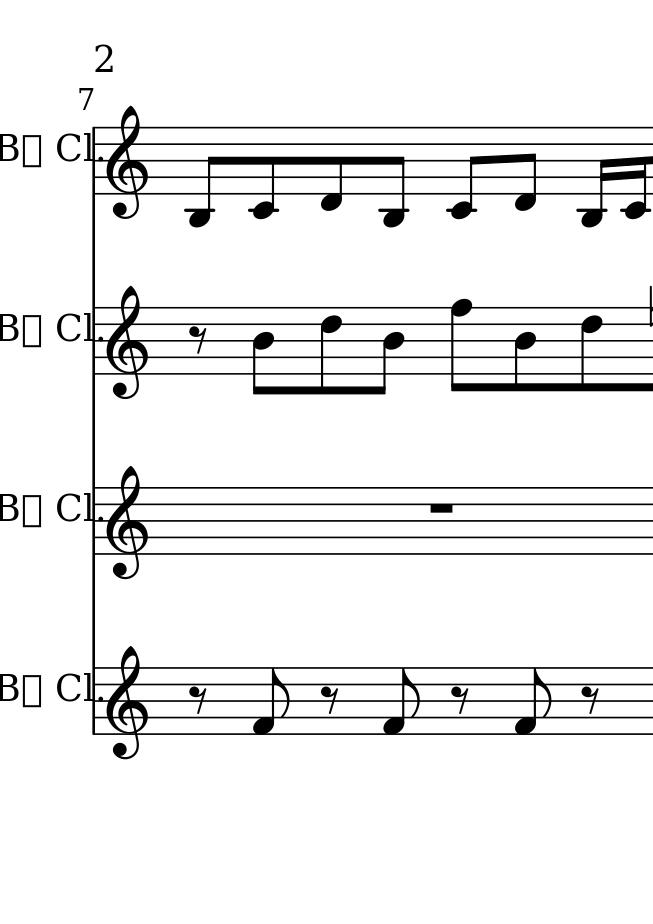16_-2: (622, 123, 649, 223)
16_-3: (578, 124, 617, 232)
2: (93, 42, 114, 72), (78, 85, 94, 112)
8_-1: (318, 125, 346, 214), (513, 124, 540, 213)
8_-2: (447, 123, 485, 221), (247, 125, 280, 223)
8_-3: (185, 125, 224, 229)
8_1: (381, 667, 422, 737), (514, 668, 554, 734), (253, 666, 289, 737)
8_4: (373, 305, 405, 396), (251, 306, 278, 399), (513, 304, 538, 395)
8_6: (578, 305, 604, 397)
8_8: (449, 297, 476, 397)
Cl: (55, 127, 92, 168), (57, 487, 97, 524), (56, 309, 91, 348), (57, 668, 91, 703)
Flat: (376, 124, 411, 230), (318, 304, 344, 397)
Gclef: (103, 104, 152, 221), (105, 283, 152, 404), (105, 466, 150, 587), (106, 645, 152, 763)
Rests1: (425, 499, 458, 519)
Rests8: (317, 683, 342, 715), (447, 683, 472, 715), (186, 685, 209, 718), (579, 685, 601, 718), (188, 324, 210, 354)
Single_barline: (89, 126, 105, 196), (89, 306, 104, 376), (88, 488, 103, 555), (89, 668, 103, 735)
